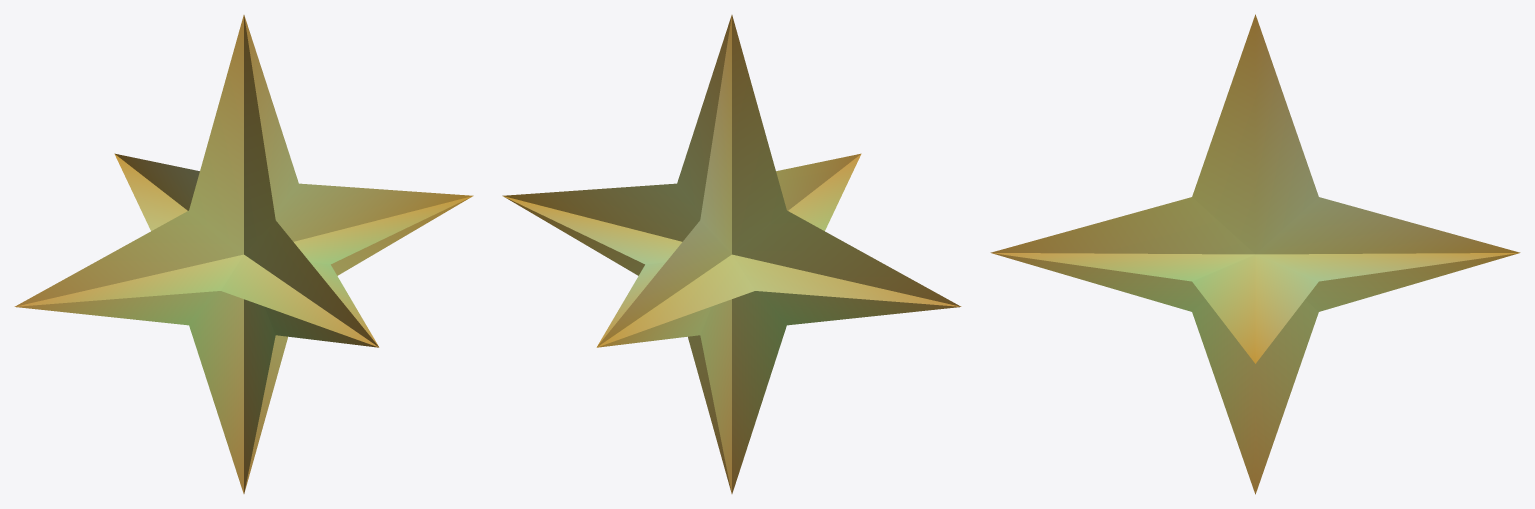
3 views of the same model, side by side, from view 1: azimuth 30°, elevation 25°; view 2: azimuth 150°, elevation 25°; view 3: azimuth 270°, elevation 25° (orthographic).
Parts seen in each view (by area): view 1: starcloud183; view 2: starcloud183; view 3: starcloud183.
Boxes of the visible parts, <box> form: starcloud183: <box>14,15,473,493</box>; starcloud183: <box>502,15,961,493</box>; starcloud183: <box>990,14,1520,494</box>.
Bounding box in the file's own units: 0.5 × 0.5 × 0.5.
